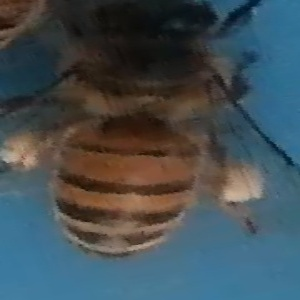bee: (43, 39, 290, 265)
